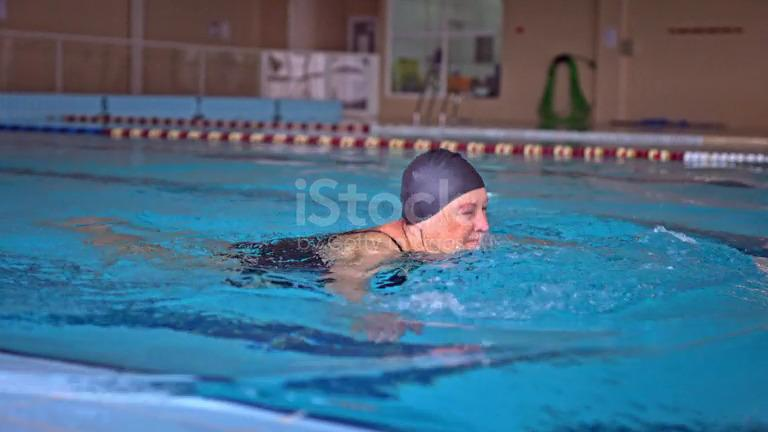Swimming: (74, 109, 614, 366)
